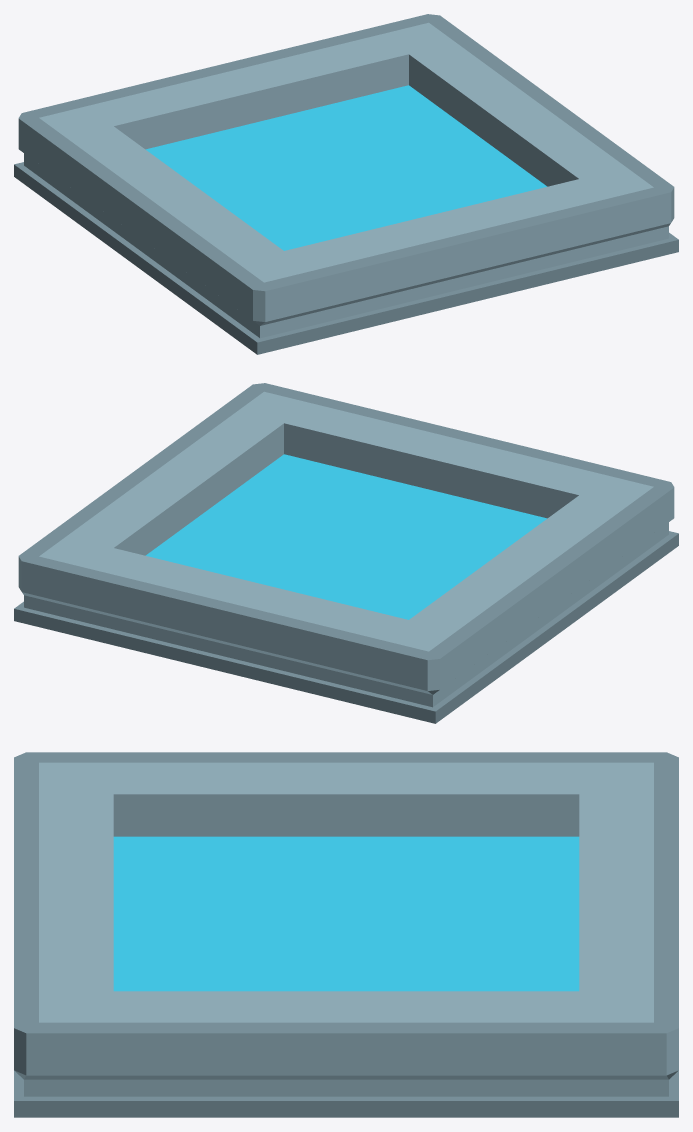
The model's file is fountainSquare.obj.
3 renders of one model, top to bottom at view 1: azimuth 30°, elevation 25°; view 2: azimuth 150°, elevation 25°; view 3: azimuth 270°, elevation 25°, orthographic. The views are drawn at different scales.
Visible parts, largest first — view 1: fountainSquare; view 2: fountainSquare; view 3: fountainSquare.
Part boxes in pixels (box(x1,y1,x2,y2)): fountainSquare: box(14, 14, 678, 354); fountainSquare: box(14, 383, 678, 723); fountainSquare: box(14, 752, 678, 1117).
Bounding box in the file's own units: 2 × 0.28 × 2.
